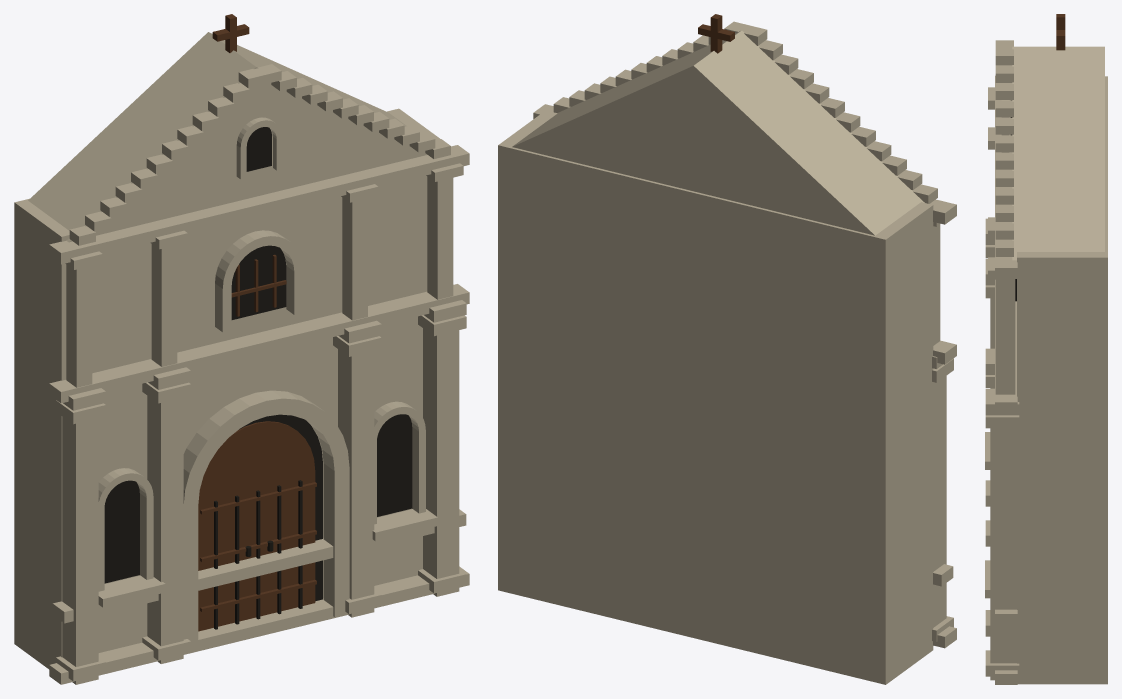
File: env_church_facade.obj
3 renders of one model, left to right at view 1: azimuth 30°, elevation 25°; view 2: azimuth 150°, elevation 25°; view 3: azimuth 270°, elevation 25°, orthographic. The views are drawn at different scales.
Visible parts, largest first — view 1: ChurchFacade; view 2: ChurchFacade; view 3: ChurchFacade.
Boxes of the visible parts, x1=… form: ChurchFacade: x1=14, y1=14, x2=469, y2=684; ChurchFacade: x1=498, y1=14, x2=956, y2=684; ChurchFacade: x1=985, y1=14, x2=1107, y2=684.
Size of the model in its own units: 6 by 8.4 by 1.62.
